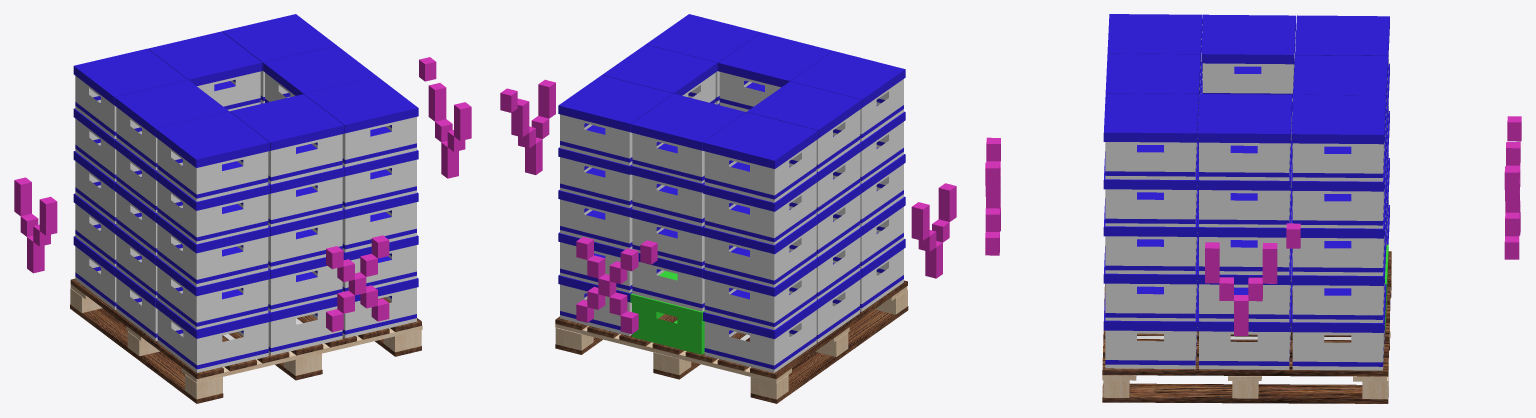
The model's file is caja231.gltf.
3 views of the same model, side by side, from view 1: azimuth 30°, elevation 25°; view 2: azimuth 150°, elevation 25°; view 3: azimuth 270°, elevation 25° (orthographic). The views are drawn at different scales.
Parts seen in each view (by area): view 1: Cube.031_1, Cube.026_1, Cube.033_1, Cube.040_1, Cube.032_1, Cube.030_1, Cube.027_1, Cube.007_0, Cube.031_0, Cube.020_0, Cube.012_0, Cube.039_0 (+54 smaller); view 2: Cube.032_1, Cube.028_1, Cube.040_1, Cube.033_1, Cube.030_1, Cube.031_1, Cube.027_1, Cube.014_0, Cube.032_0, Cube.037_0, Cube.022_0, Cube.029_0 (+53 smaller); view 3: Cube.026_1, Cube.027_1, Cube.028_1, Cube.030_1, Cube055, Cube.032_1, Cube.031_1, Cube.033_1, Cube.040_1, Cube.003_0, Cube.001_0, Cube.002_0 (+33 smaller).
Part boxes in pixels (left/top/right/bottom): Cube.031_1: left=155, top=111, right=269, bottom=198; Cube.026_1: left=304, top=77, right=418, bottom=163; Cube.033_1: left=230, top=94, right=344, bottom=181; Cube.040_1: left=148, top=31, right=262, bottom=109; Cube.032_1: left=73, top=48, right=187, bottom=135; Cube.030_1: left=114, top=80, right=228, bottom=167; Cube.027_1: left=263, top=45, right=377, bottom=102; Cube.007_0: left=157, top=309, right=268, bottom=372; Cube.031_0: left=157, top=138, right=268, bottom=201; Cube.020_0: left=157, top=224, right=268, bottom=286; Cube.012_0: left=157, top=267, right=268, bottom=329; Cube.039_0: left=157, top=181, right=268, bottom=244; Cube.032_1: left=703, top=112, right=818, bottom=199; Cube.028_1: left=558, top=75, right=673, bottom=162; Cube.040_1: left=630, top=93, right=745, bottom=180; Cube.033_1: left=718, top=32, right=832, bottom=109; Cube.030_1: left=747, top=81, right=861, bottom=168; Cube.031_1: left=790, top=51, right=905, bottom=138; Cube.027_1: left=602, top=44, right=717, bottom=103; Cube.014_0: left=704, top=310, right=816, bottom=372; Cube.032_0: left=704, top=140, right=816, bottom=202; Cube.037_0: left=704, top=225, right=816, bottom=287; Cube.022_0: left=704, top=268, right=816, bottom=329; Cube.029_0: left=704, top=183, right=816, bottom=244; Cube.026_1: left=1103, top=93, right=1198, bottom=176; Cube.027_1: left=1197, top=94, right=1292, bottom=177; Cube.028_1: left=1291, top=94, right=1386, bottom=177; Cube.030_1: left=1201, top=14, right=1295, bottom=98; Cube055: left=1102, top=383, right=1388, bottom=403; Cube.032_1: left=1295, top=15, right=1389, bottom=98; Cube.031_1: left=1107, top=14, right=1202, bottom=93; Cube.033_1: left=1105, top=53, right=1200, bottom=132; Cube.040_1: left=1293, top=55, right=1387, bottom=133; Cube.003_0: left=1292, top=324, right=1384, bottom=370; Cube.001_0: left=1105, top=327, right=1197, bottom=369; Cube.002_0: left=1199, top=327, right=1290, bottom=369.
Bounding box in the file's own units: 4.24 × 2.33 × 4.23.
Materials: 82 (2 with a texture image).
